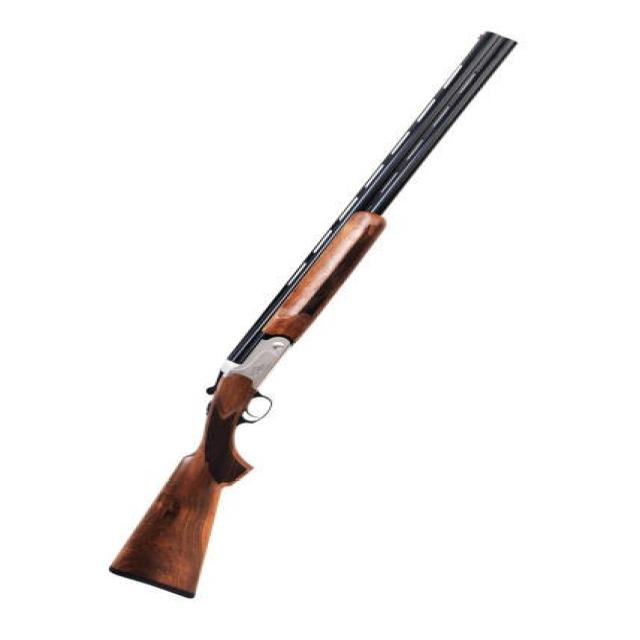rifle: (100, 24, 531, 623)
